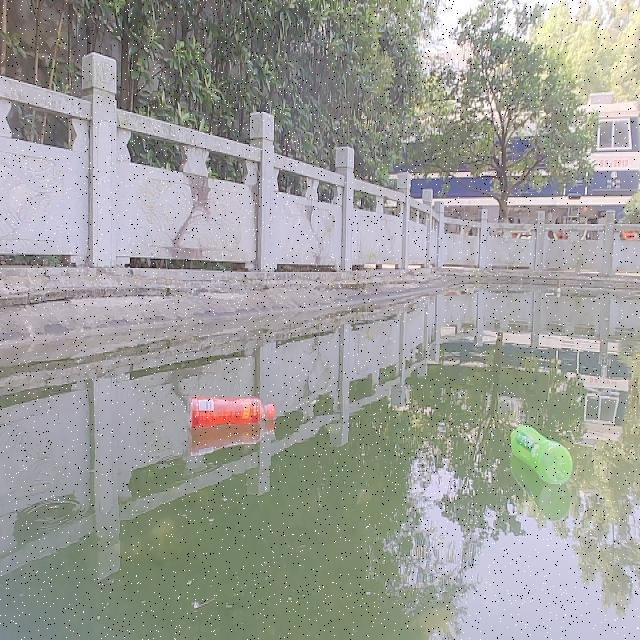Bottle: (508, 421, 573, 484), (189, 393, 276, 428)
